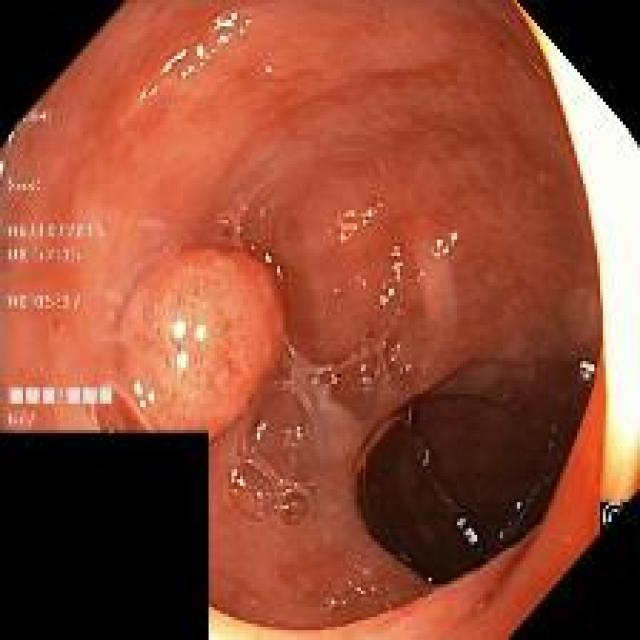Polyps: (119, 248, 284, 436)
